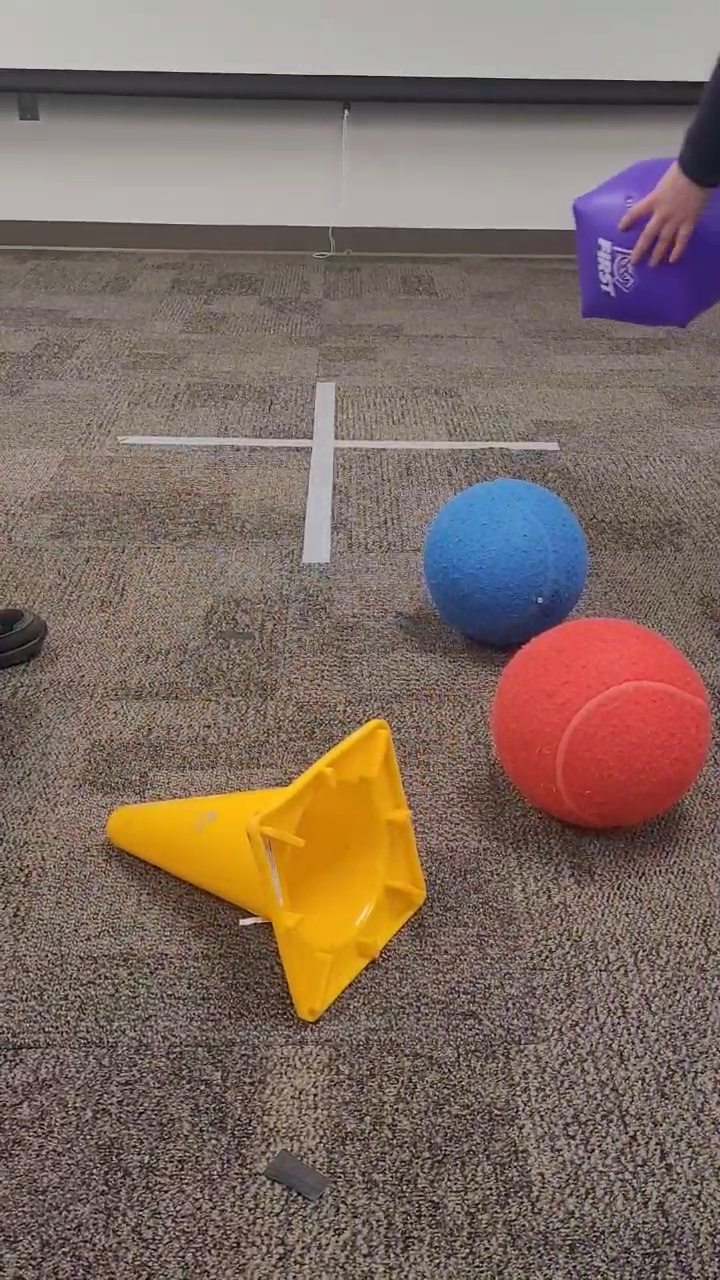ball: (487, 614, 715, 831), (419, 475, 592, 650)
cone: (104, 713, 430, 1025)
cube: (567, 153, 720, 333)
foot: (1, 601, 49, 675)
hand: (613, 50, 720, 270)
